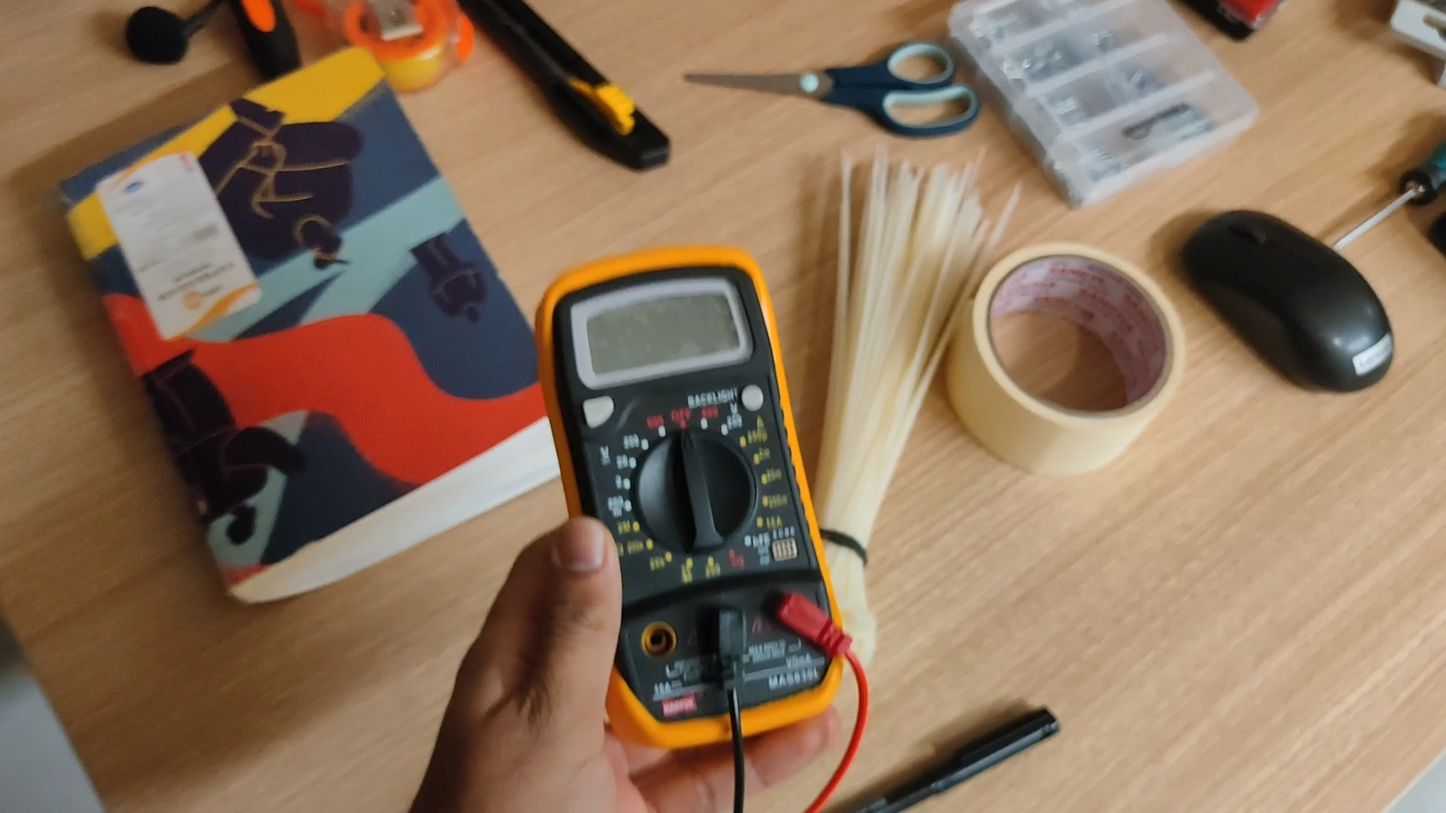multimeter: (205, 168, 323, 510)
